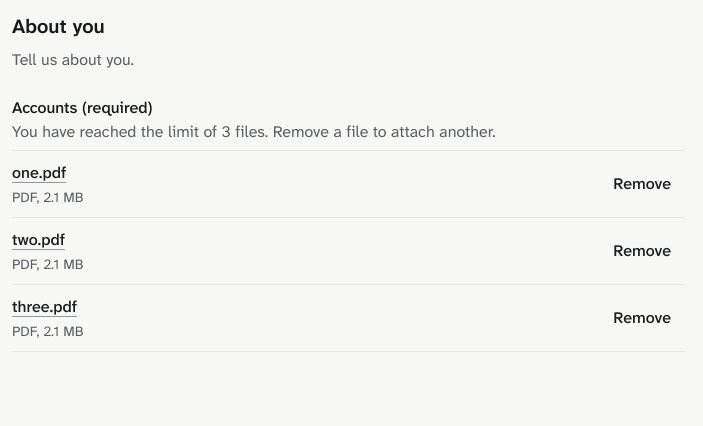
Test case: FileQuestion › at the limit › brings the input back, with focus, when a file is removed
The width and height of the screenshot is (703, 426).
Click the button named "Remove two.pdf": (642, 251) left=598, top=229, right=686, bottom=273
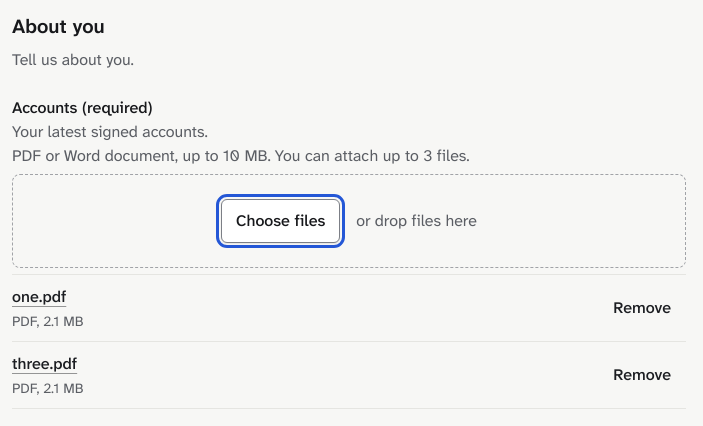
Check: the text "reached the limit" is gone
